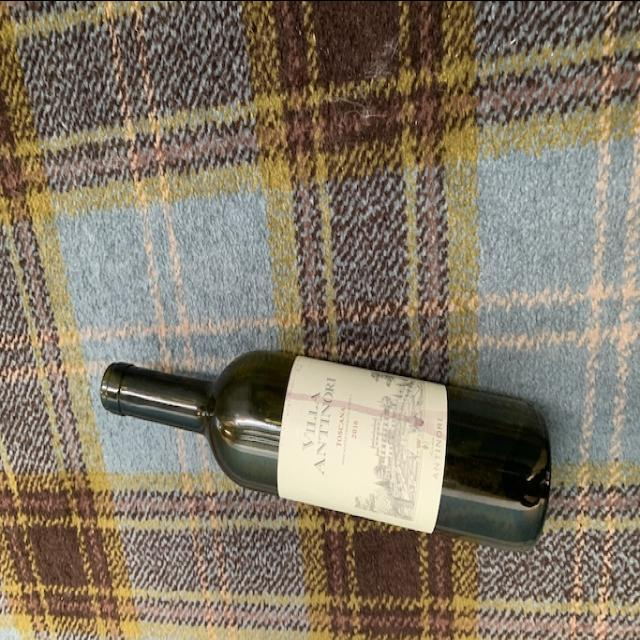litter: (96, 341, 554, 550)
